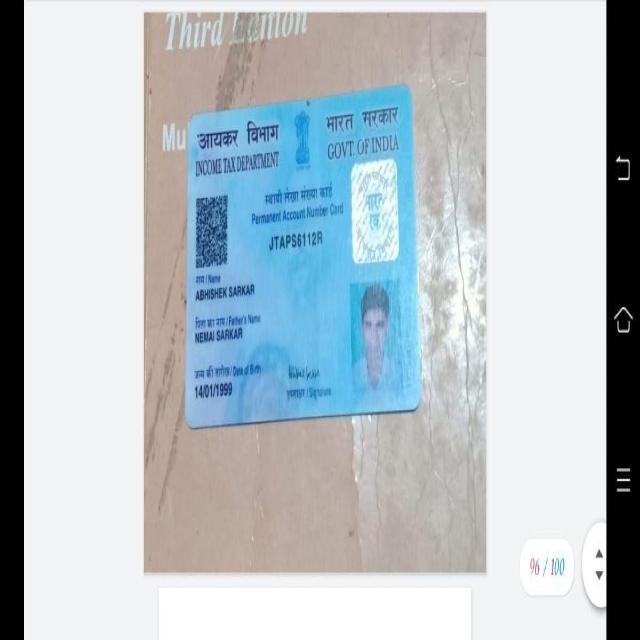pan_card: (185, 80, 422, 428)
